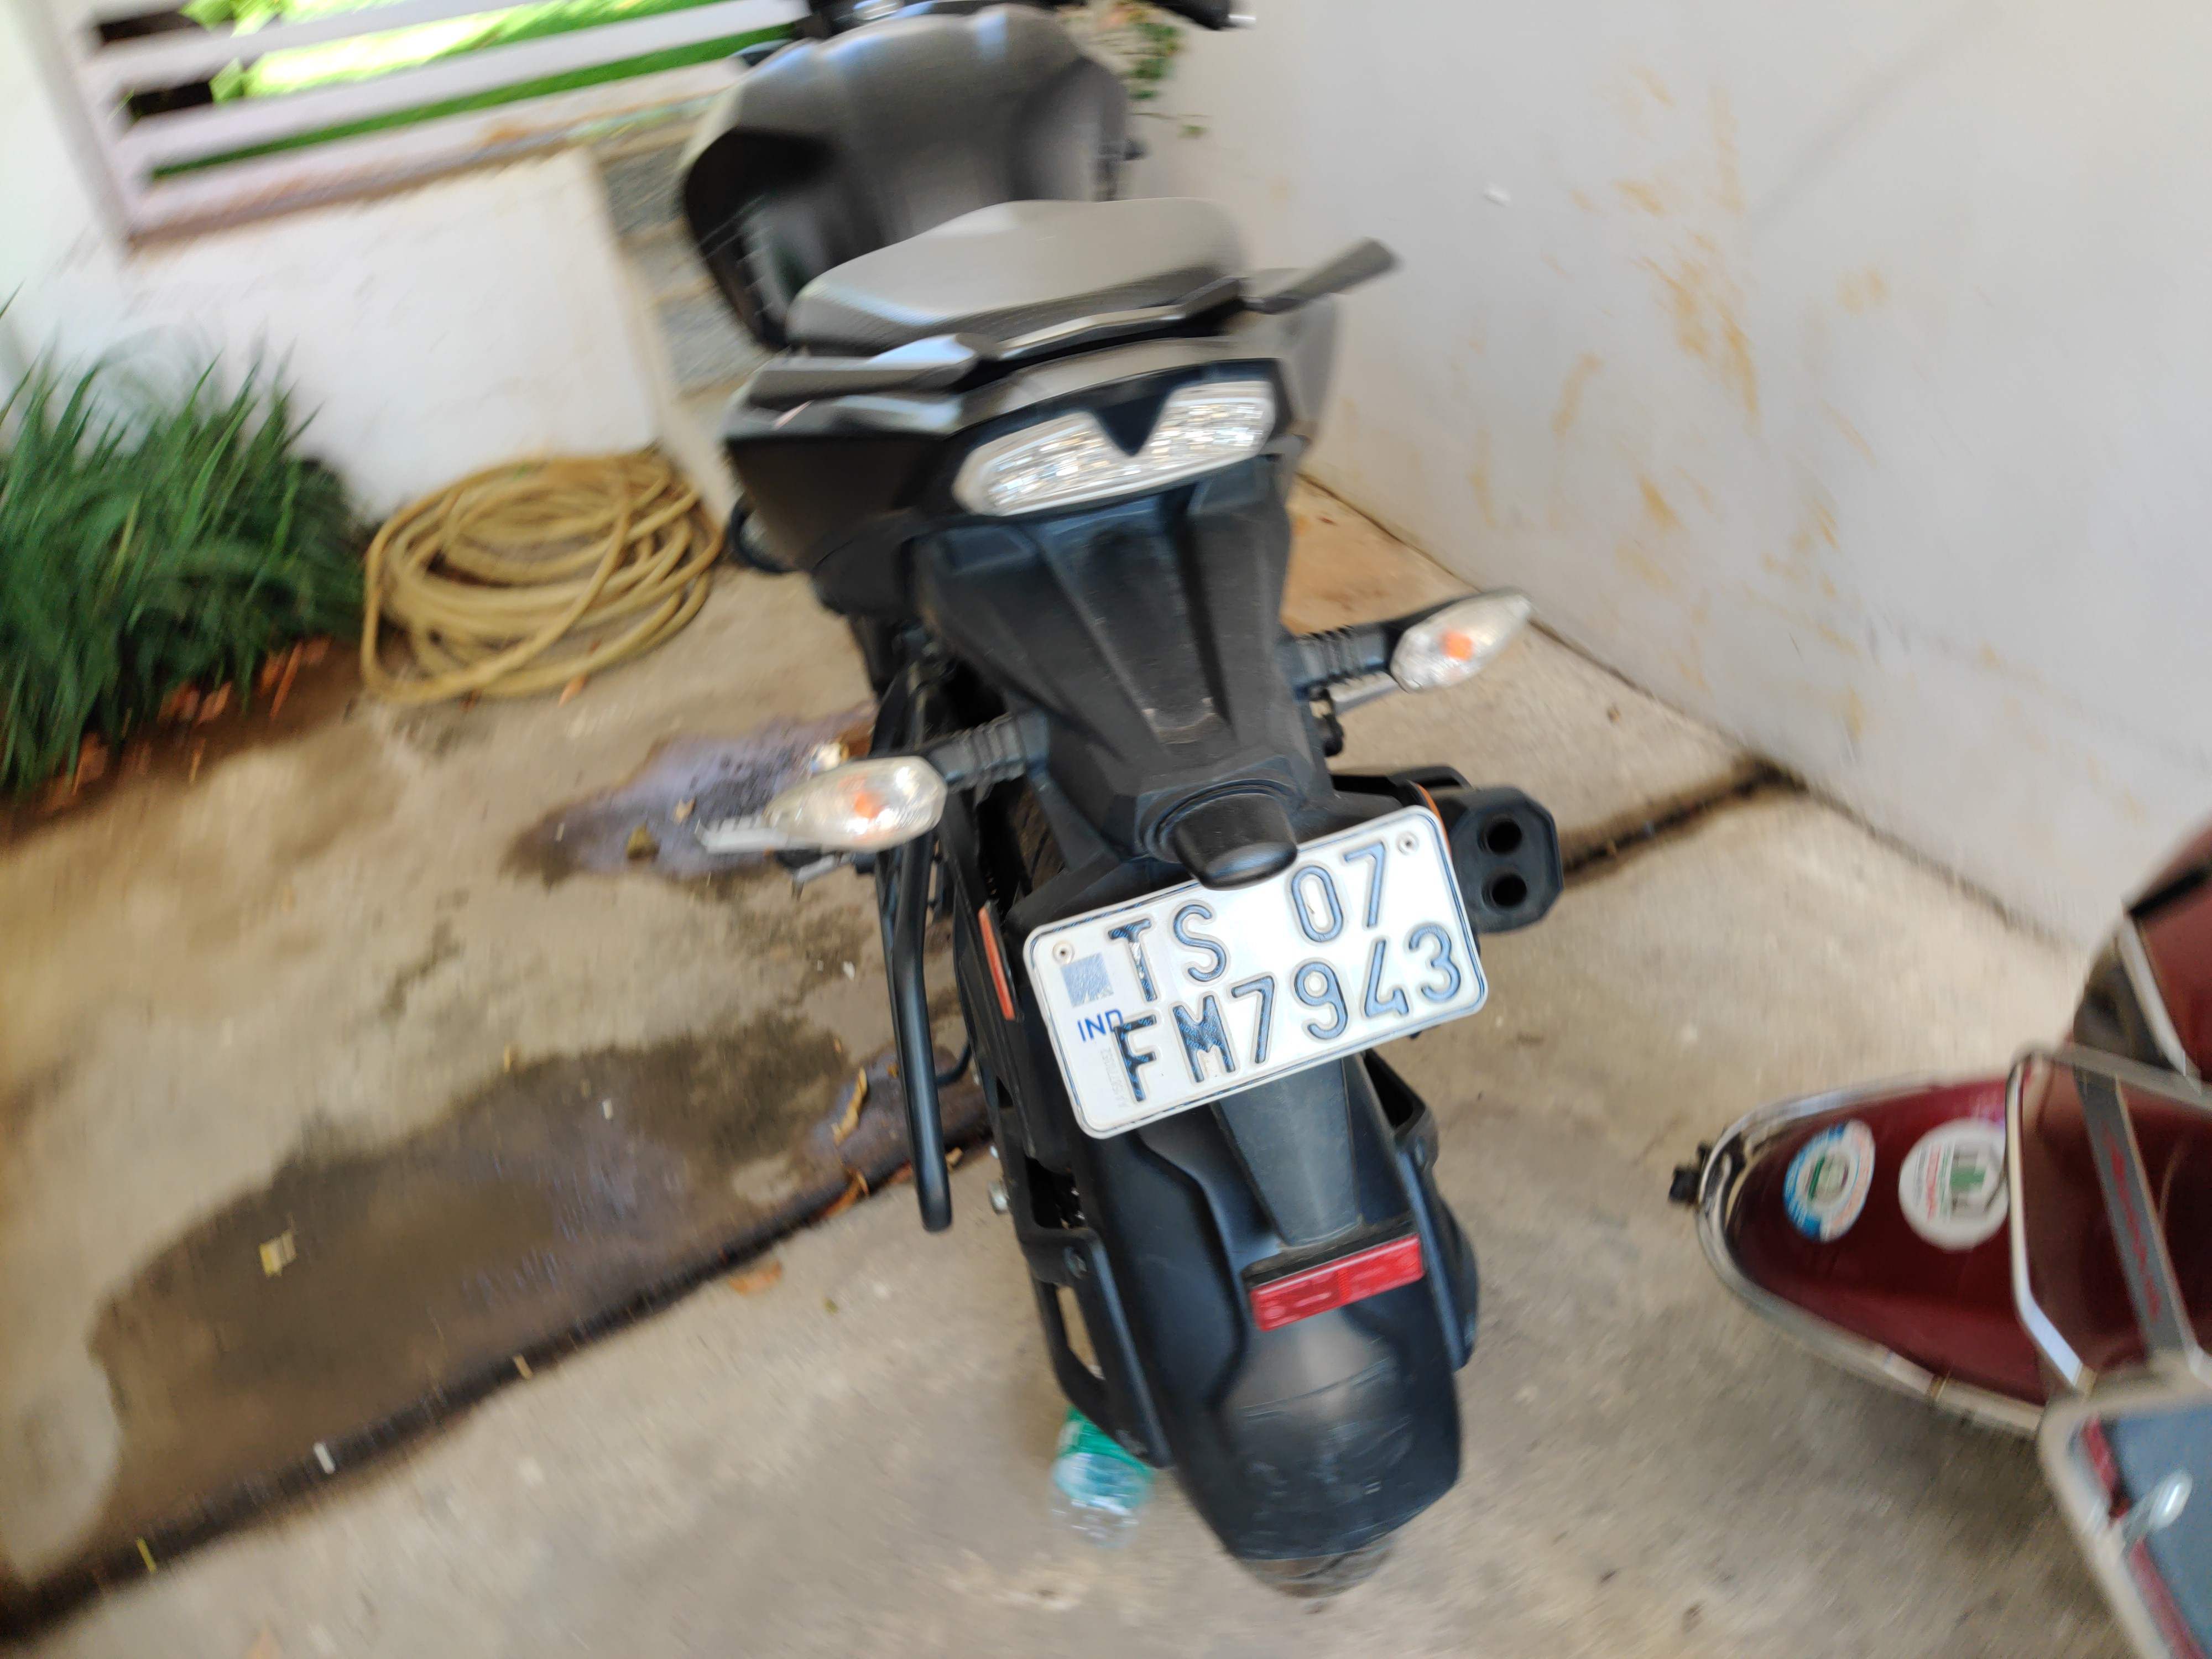plate: (1005, 795, 1511, 1154)
